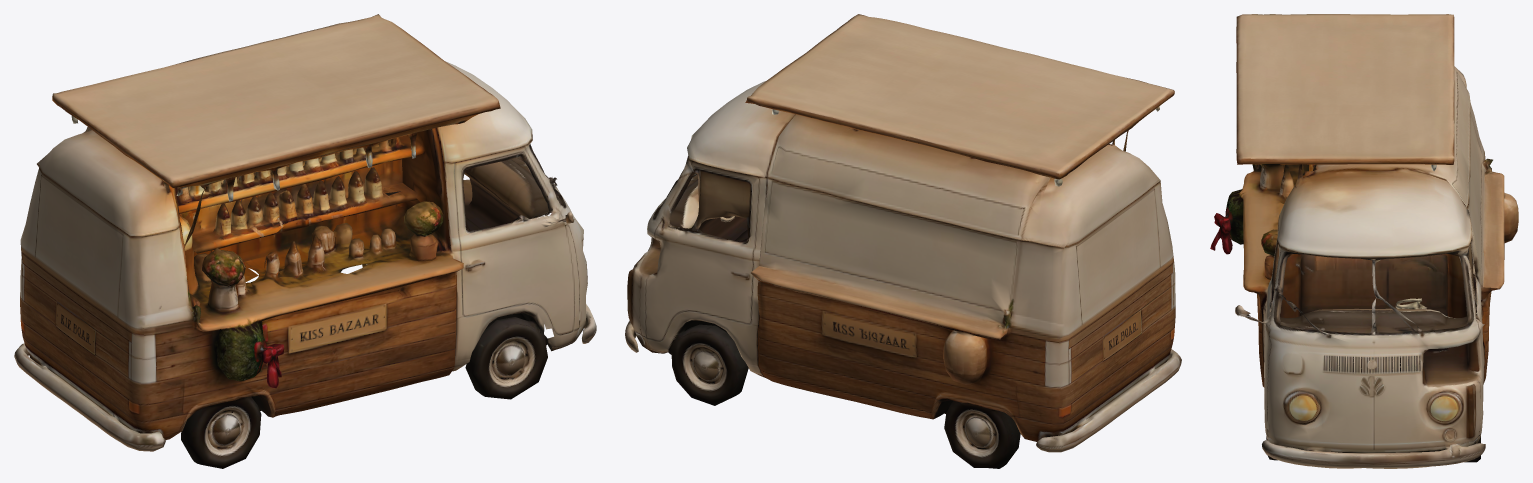
The picture shows the model from 3 angles, left to right: view 1: azimuth 30°, elevation 25°; view 2: azimuth 150°, elevation 25°; view 3: azimuth 270°, elevation 25°; orthographic projection. The views are drawn at different scales.
Visible parts, largest first — view 1: tripo_node_ee86f942; view 2: tripo_node_ee86f942; view 3: tripo_node_ee86f942.
Boxes of the visible parts, x1,y1,x2,y2 form: tripo_node_ee86f942: (14, 14, 596, 468); tripo_node_ee86f942: (625, 14, 1181, 468); tripo_node_ee86f942: (1210, 14, 1518, 468).
Bounding box in the file's own units: 97.81 × 60.75 × 58.93.
Materials: 1 (1 with a texture image).
